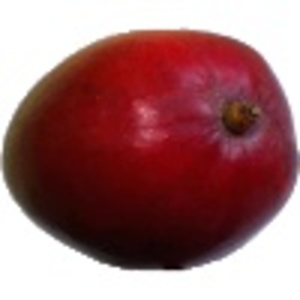manga: (1, 28, 300, 271)
